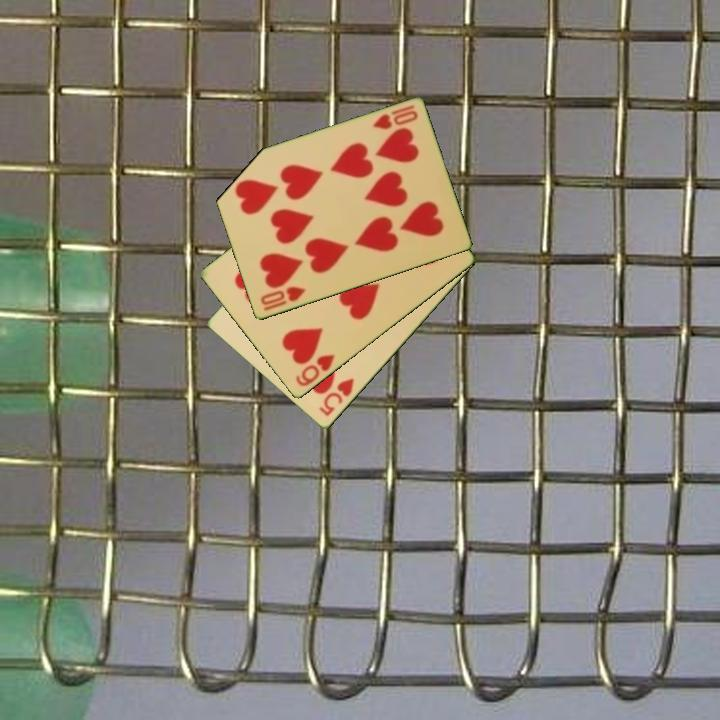10h: (369, 102, 421, 133), (257, 283, 308, 314)
5h: (316, 375, 357, 419)
6h: (292, 351, 338, 390)
